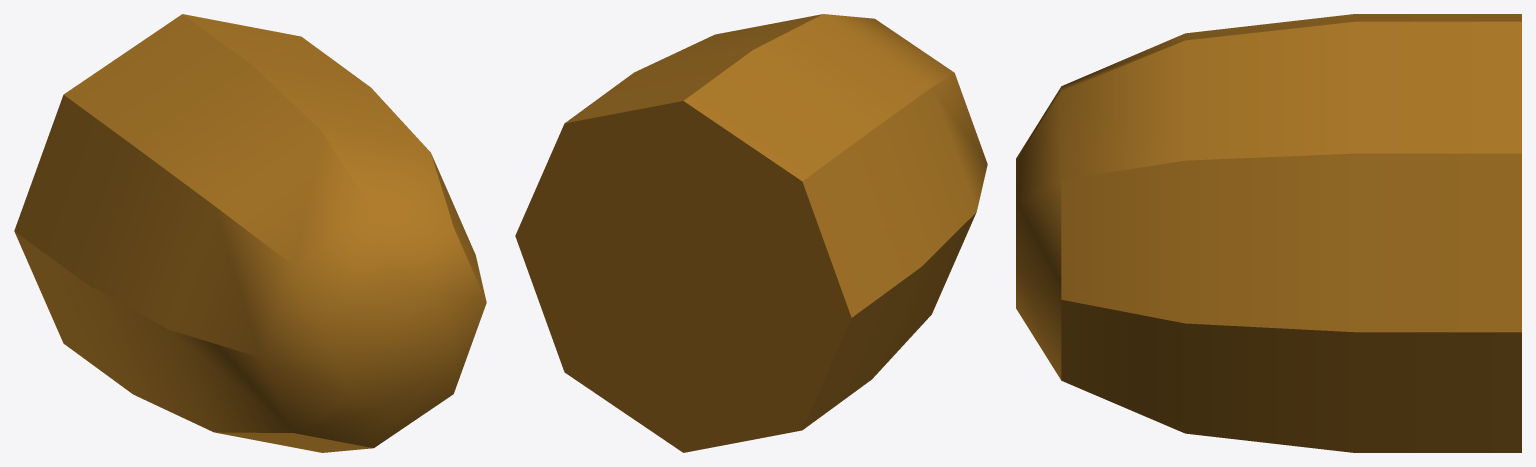
Rendered from weaken.fbx.
3 views of the same model, side by side, from view 1: azimuth 30°, elevation 25°; view 2: azimuth 150°, elevation 25°; view 3: azimuth 270°, elevation 25° (orthographic). The views are drawn at different scales.
Visible parts, largest first — view 1: weaken; view 2: weaken; view 3: weaken.
Part boxes in pixels (x1,y1,x2,y2): weaken: (14,14,486,452); weaken: (515,14,987,452); weaken: (1016,14,1521,452).
Bounding box in the file's own units: 23.66 × 23.66 × 25.62.
Materials: 1 (1 with a texture image).
